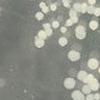white: (32, 34, 47, 50), (68, 88, 86, 100), (66, 49, 81, 63), (86, 77, 100, 92), (62, 76, 76, 91), (86, 56, 99, 71), (82, 72, 96, 85), (57, 35, 69, 48), (74, 31, 88, 42), (88, 19, 99, 33), (83, 91, 100, 100), (79, 2, 90, 15), (72, 1, 83, 14), (76, 69, 87, 82), (66, 8, 80, 18), (32, 11, 44, 22), (36, 30, 48, 41), (74, 24, 87, 34), (68, 14, 80, 24), (0, 74, 7, 90), (88, 4, 97, 16), (64, 18, 74, 28), (81, 85, 91, 95), (36, 0, 47, 9), (44, 28, 55, 37), (41, 22, 53, 30), (93, 5, 100, 18), (61, 1, 72, 9), (41, 5, 50, 14), (49, 3, 58, 12), (51, 20, 60, 29), (59, 26, 67, 34), (86, 0, 98, 5), (61, 0, 72, 4), (96, 65, 100, 75)
